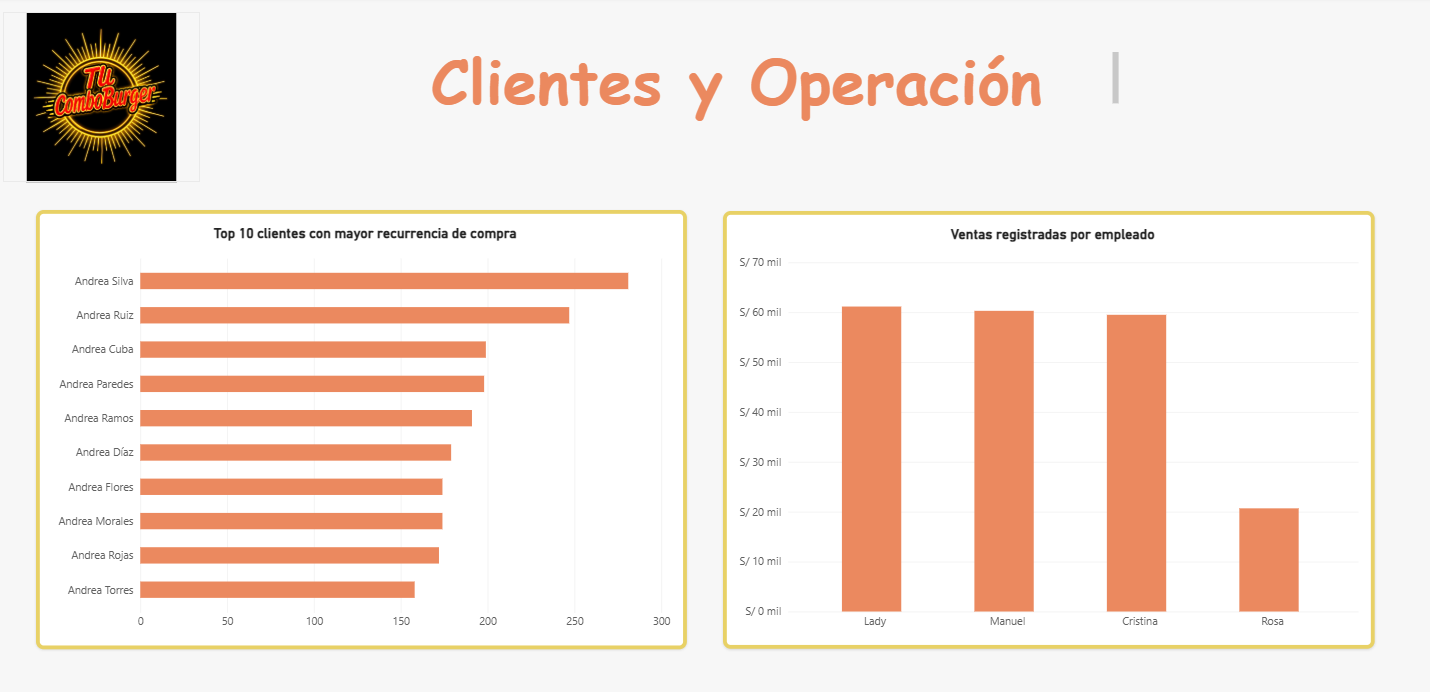

The page's visual inventory and layout, read from the dashboard file:
{"tool":"powerbi","page":{"name":"TU COMBO BURGER | CLIENTES Y OPERACIÓN","canvas":[1920,1080],"ordinal":1},"visuals":[{"type":"clusteredBarChart","title":"Top 10 clientes con mayor recurrencia de compra","fields":{"Category":["Dim_Cliente.nombreCliente"],"Y":["FACT_VENTAS.Numero de Ventas"]},"box":[73,277.8,848.6,572.9],"z":0},{"type":"clusteredColumnChart","title":"Ventas registradas por empleado","fields":{"Category":["Dim_Empleado.nombreEmpleado"],"Y":["FACT_VENTAS.Ventas Totales"]},"box":[969.1,279.1,850,571.4],"z":1},{"type":"image","box":[30,19.6,257,221.7],"z":2},{"type":"textbox","box":[472.2,71.7,1013.5,92.6],"z":3}]}

Visuals, with their boxes on the page's 1920x1080 design canvas (x1, y1, x2, y2). These are canvas units, not pixel positions in the 1430x692 screenshot, which may show the page scaled, cropped or inside an application window:
"Top 10 clientes con mayor recurrencia de compra" clusteredBarChart: 73:278:922:851
"Ventas registradas por empleado" clusteredColumnChart: 969:279:1819:850
image: 30:20:287:241
textbox: 472:72:1486:164
